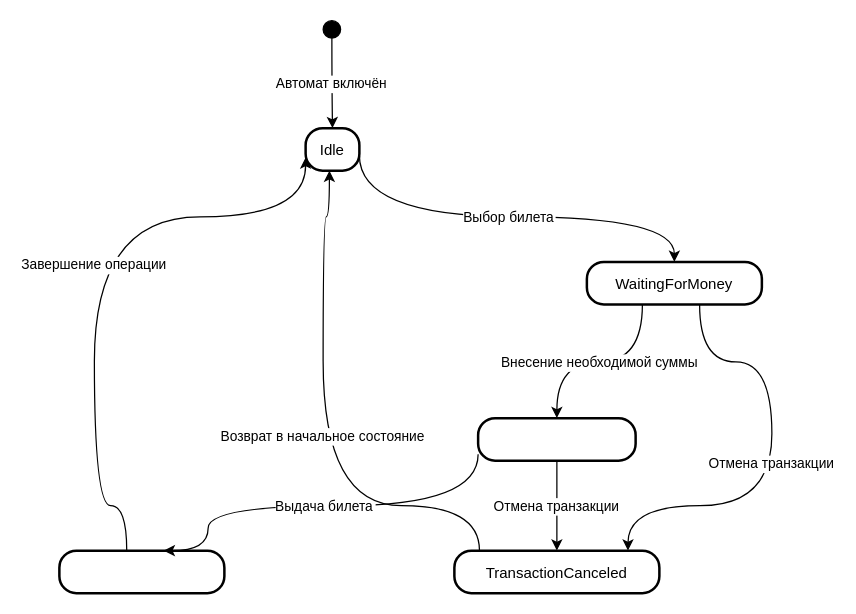
Image size: 856x614. Some labels were removed from this diagram. Each missing label, with the centre of its shape:
"MoneyReceived" goes at (x=556, y=438).
"TicketDispensed" goes at (x=141, y=571).
